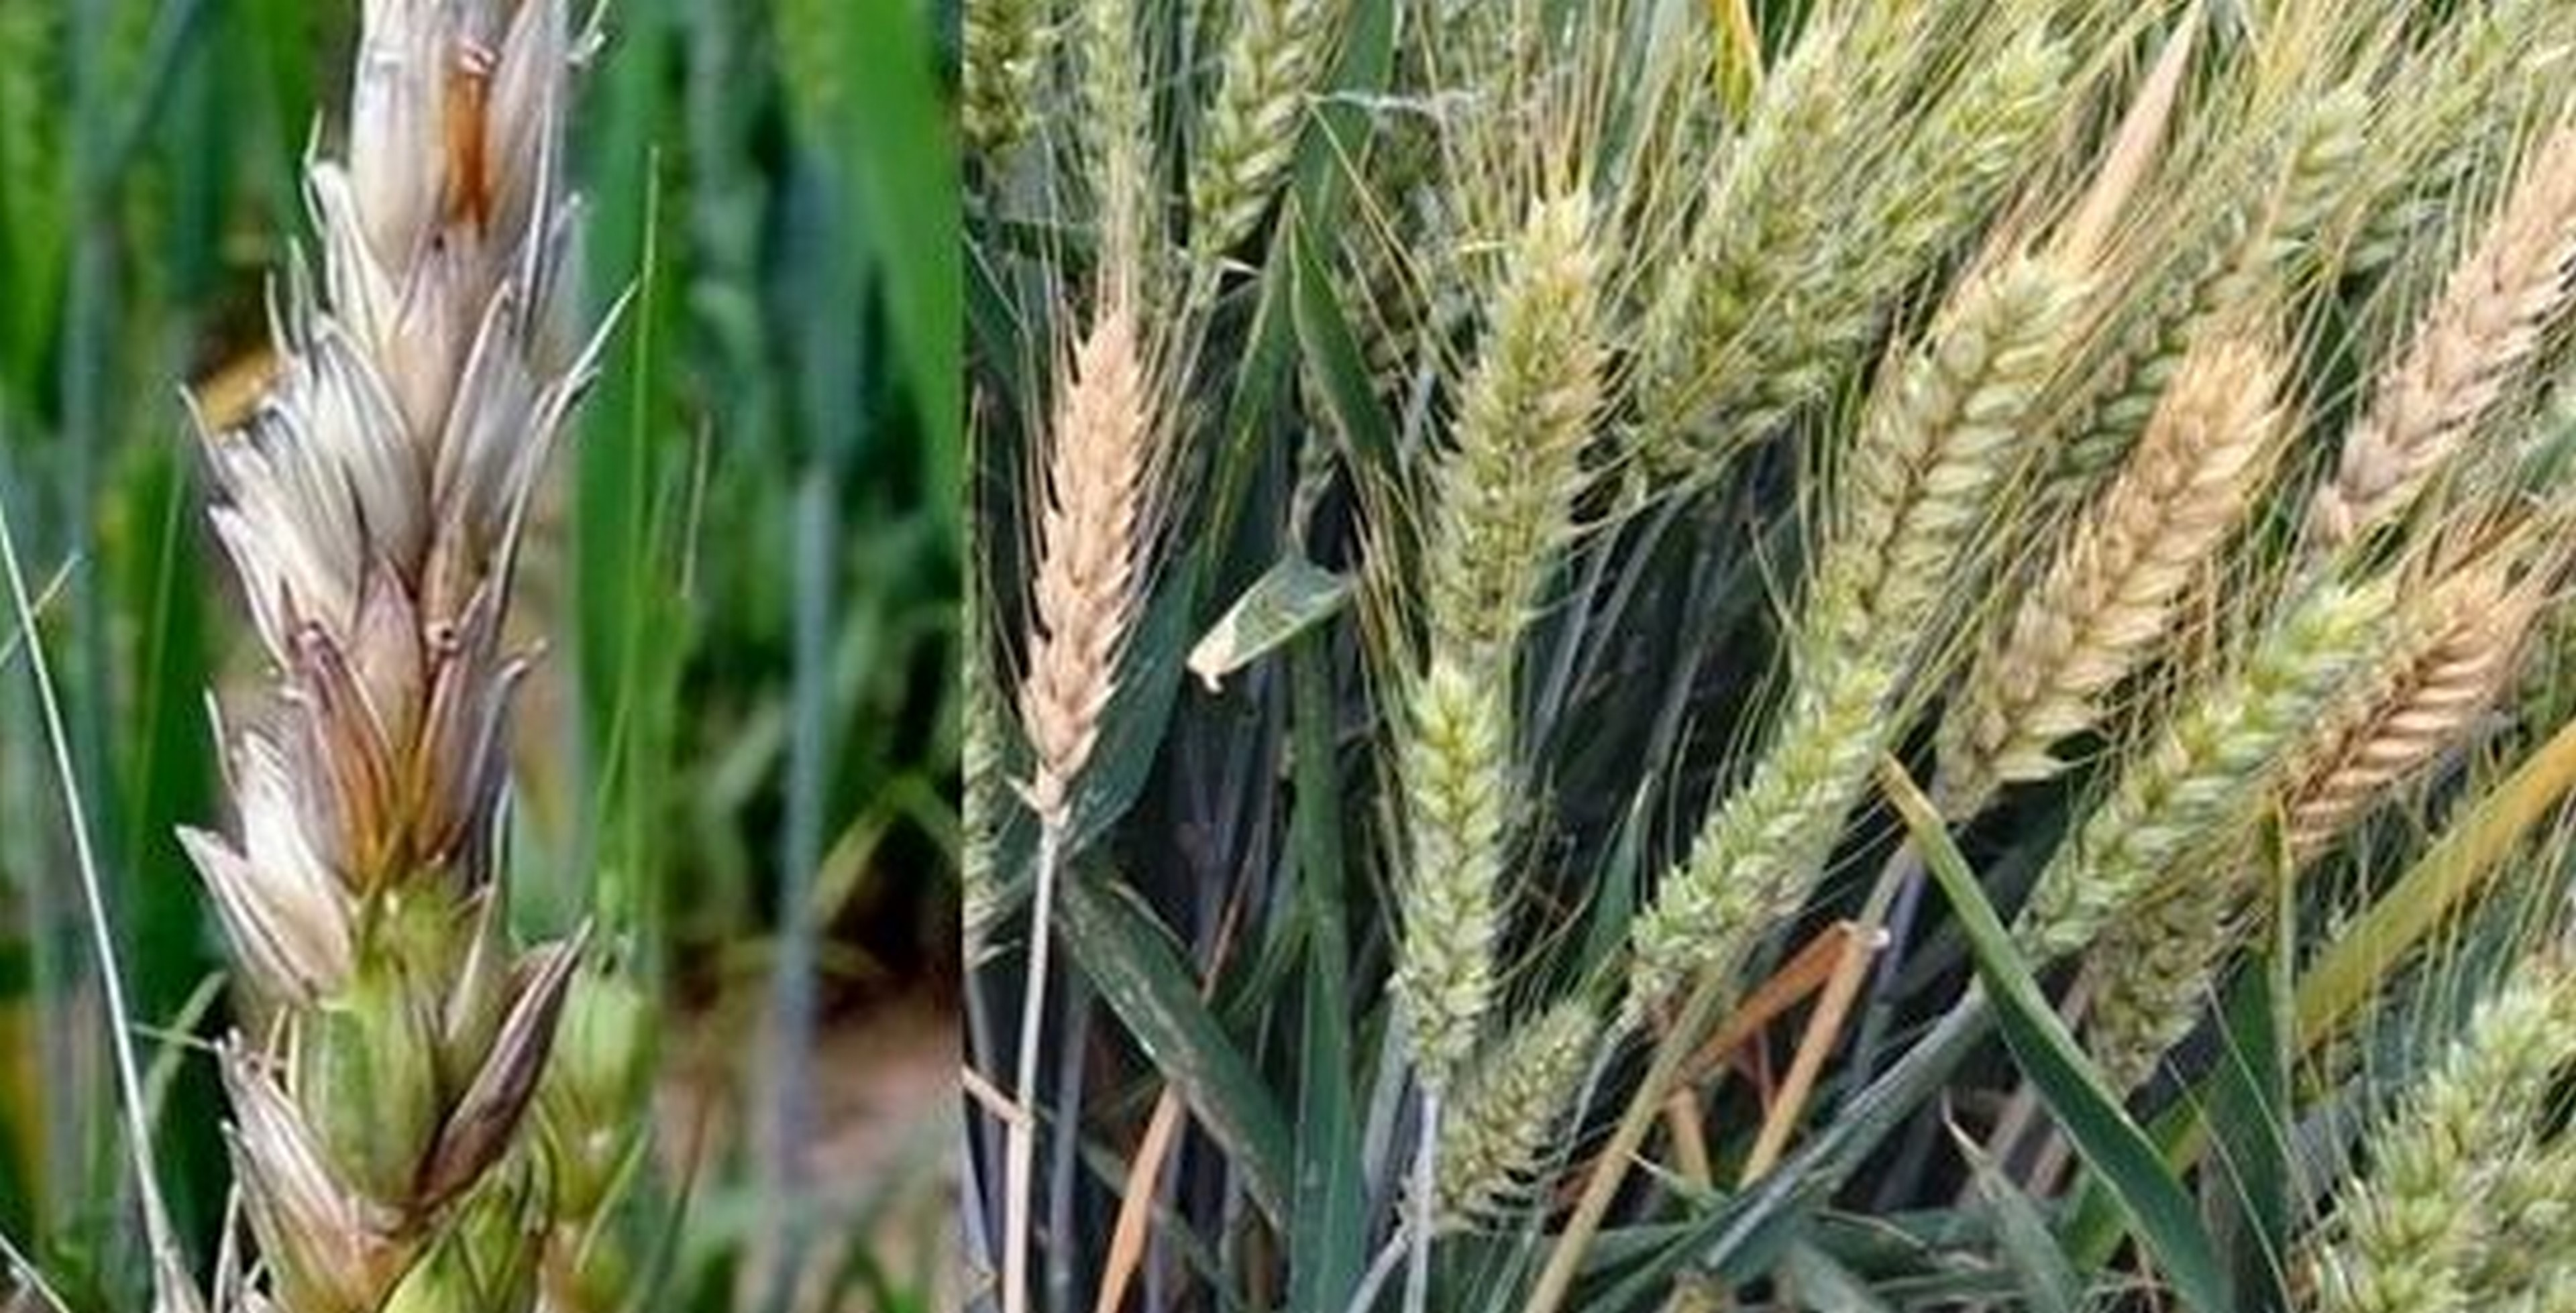Wheat scab: (203, 0, 697, 1310), (1996, 342, 2320, 757), (1007, 283, 1177, 792)
